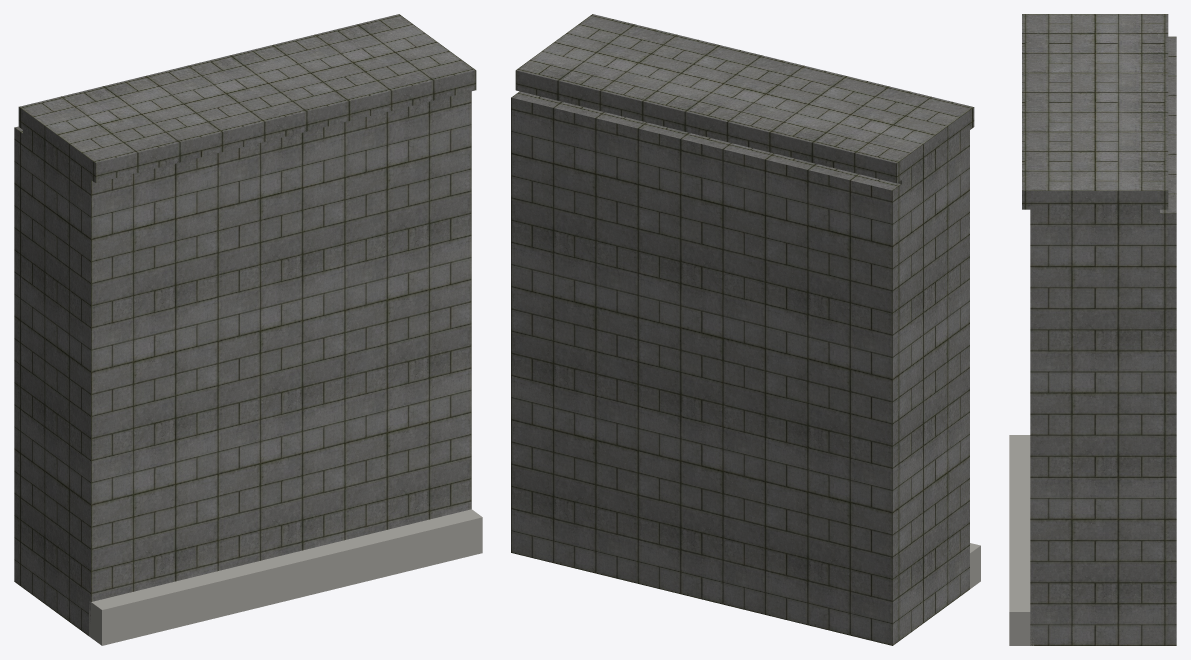
The model's file is env_canal_wall_tall.glb.
3 renders of one model, left to right at view 1: azimuth 30°, elevation 25°; view 2: azimuth 150°, elevation 25°; view 3: azimuth 270°, elevation 25°, orthographic. The views are drawn at different scales.
Visible parts, largest first — view 1: env_canal_wall_tall; view 2: env_canal_wall_tall; view 3: env_canal_wall_tall.
Part boxes in pixels (bbox=[...]): env_canal_wall_tall: bbox=[14, 14, 482, 645]; env_canal_wall_tall: bbox=[511, 14, 980, 645]; env_canal_wall_tall: bbox=[1009, 14, 1176, 645].
Bounding box in the file's own units: 2 × 2.4 × 0.8.
Materials: 3 (1 with a texture image).
